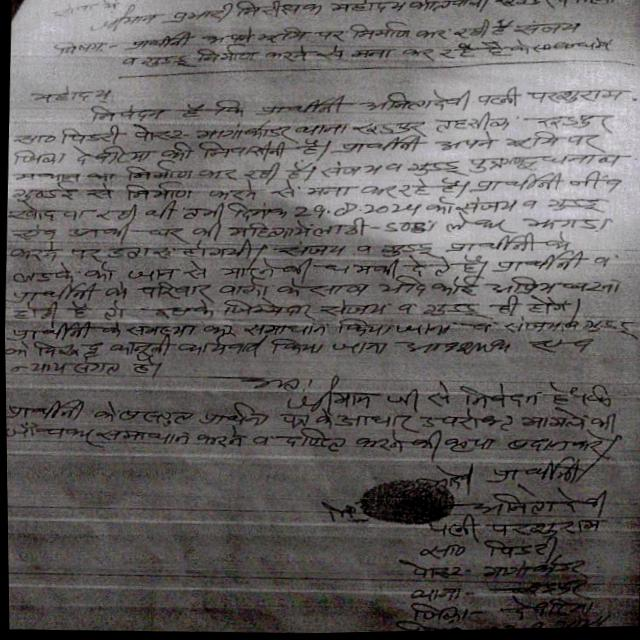fingerprint: (345, 465, 466, 534)
